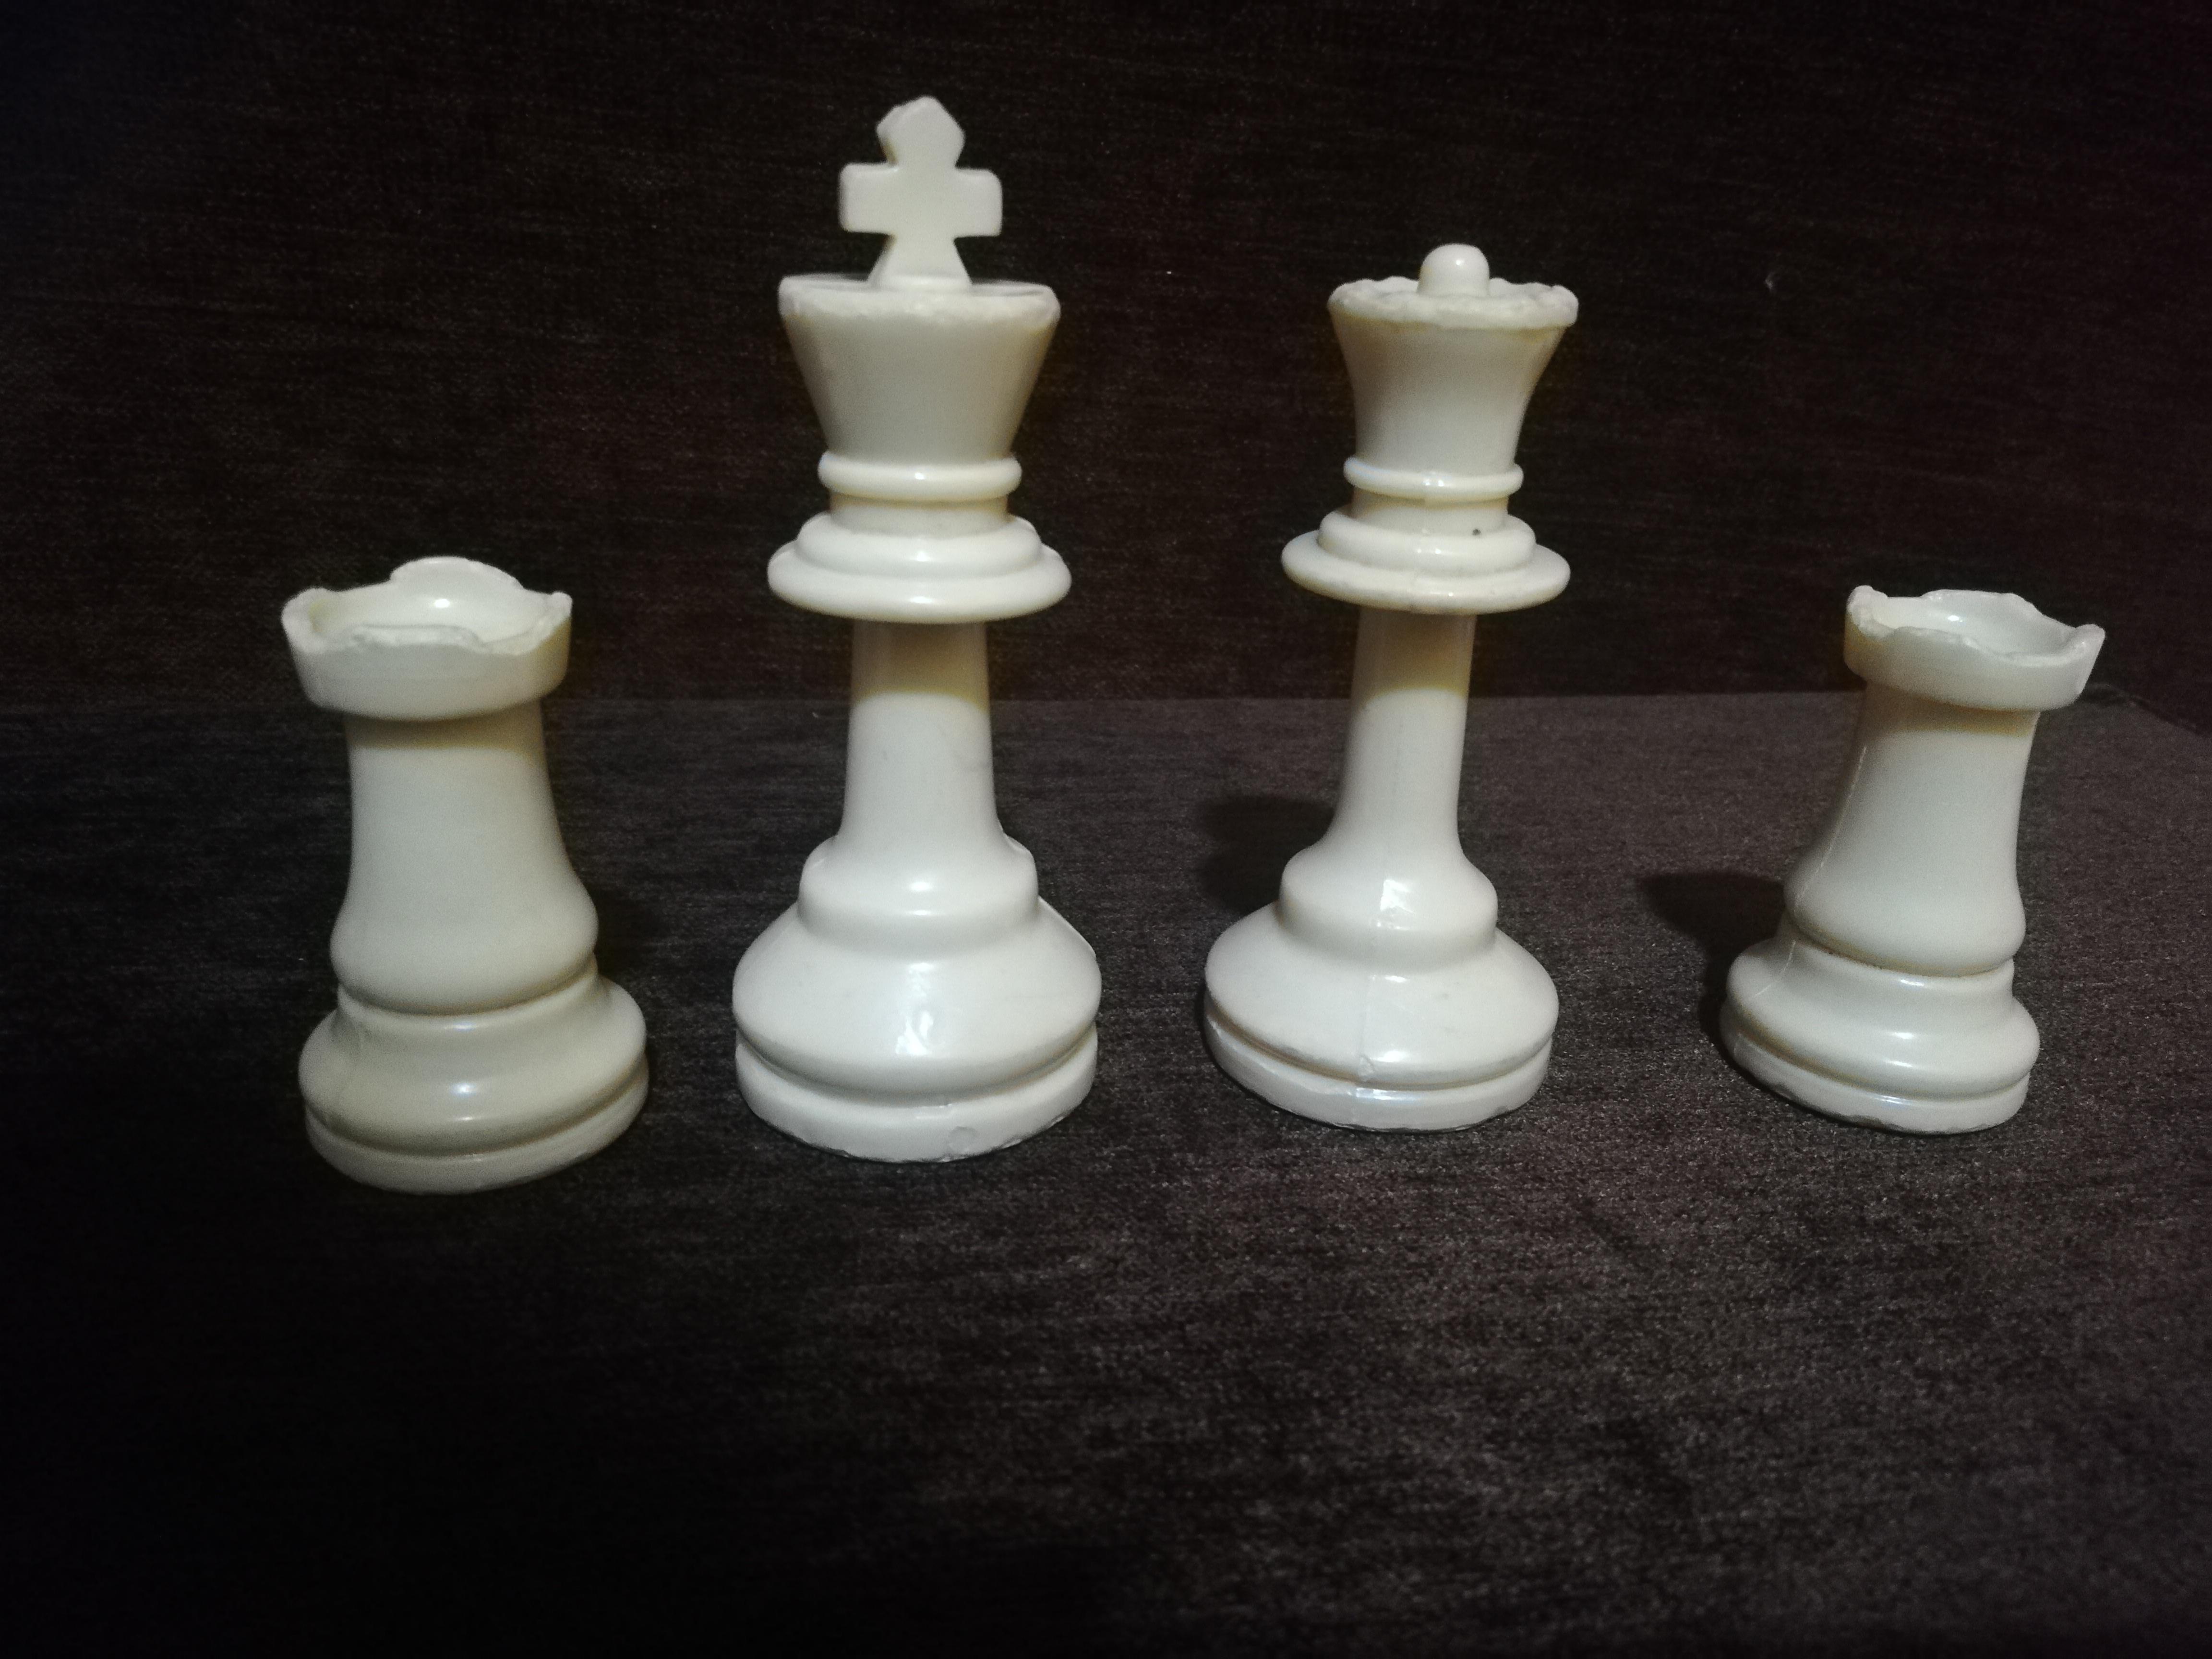King: (701, 86, 1126, 1167)
Queen: (1202, 202, 1592, 1139)
Rook: (230, 543, 667, 1176), (1713, 550, 2107, 1144)
